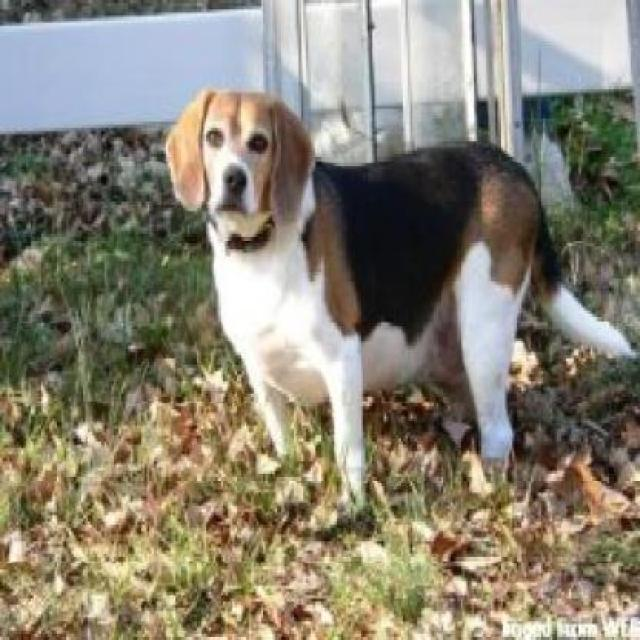Dog: (163, 81, 637, 512)
